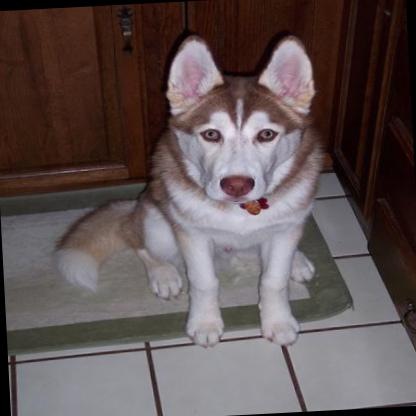Siberian_husky: (40, 28, 326, 355)
